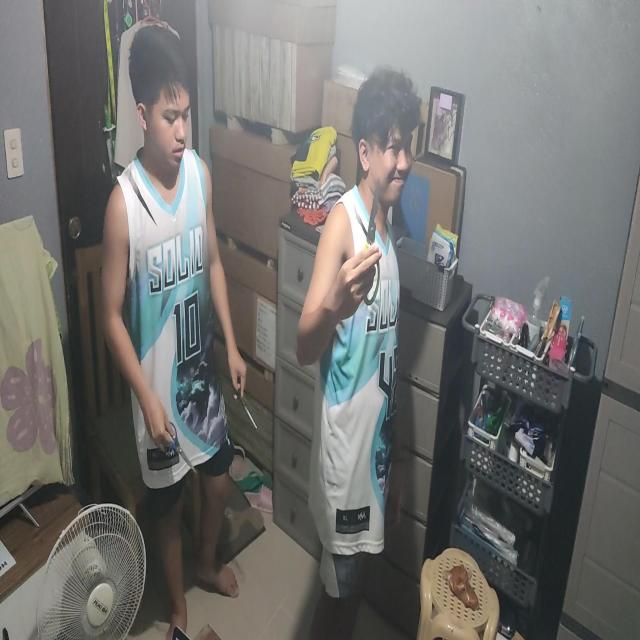scissor: (352, 174, 387, 303), (157, 415, 200, 479)
